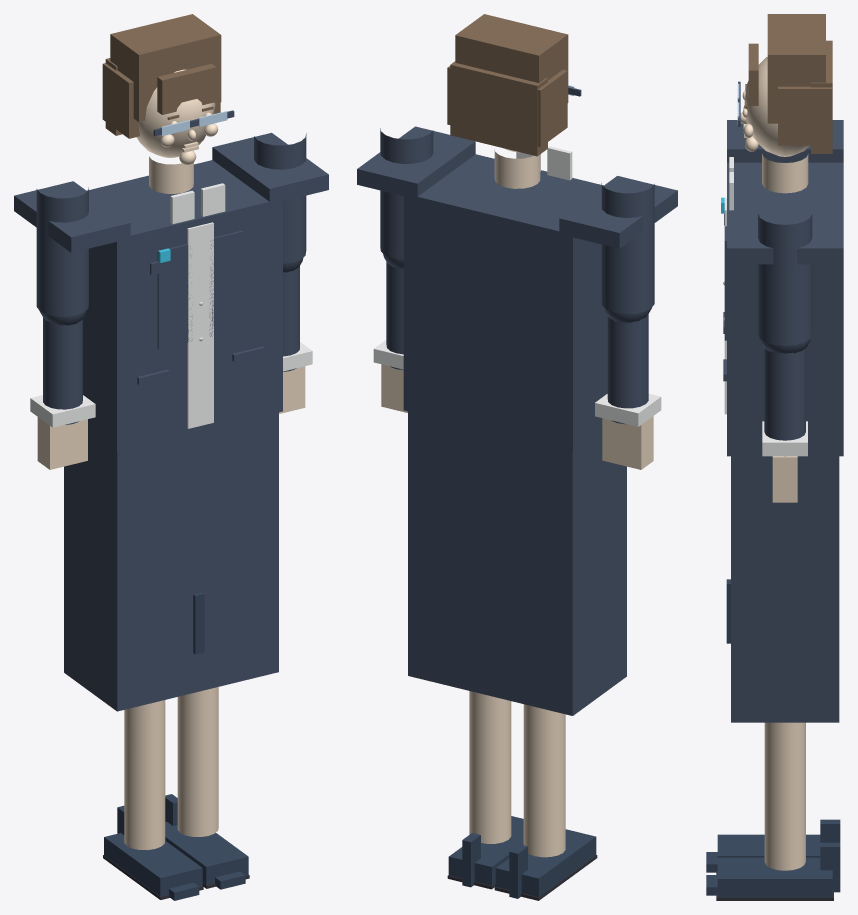
The model's file is woman.gltf.
The picture shows the model from 3 angles, left to right: view 1: azimuth 30°, elevation 25°; view 2: azimuth 150°, elevation 25°; view 3: azimuth 270°, elevation 25°; orthographic projection. The views are drawn at different scales.
Visible parts, largest first — view 1: skirt_body, jacket_body, hair_top, shin_L, shin_R, blouse_front, upper_arm_L, jacket_shoulder_R, jacket_shoulder_L, lower_arm_L, foot_L, jacket_lapel_R (+15 smaller); view 2: skirt_body, jacket_body, hair_back, shin_L, shin_R, hair_top, upper_arm_L, jacket_shoulder_R, jacket_shoulder_L, lower_arm_L, foot_L, upper_arm_R (+10 smaller); view 3: skirt_body, jacket_body, shin_R, upper_arm_R, hair_top, foot_R, jacket_shoulder_R, lower_arm_R, hair_side_R, jacket_shoulder_L, head, foot_L (+11 smaller).
Boxes of the visible parts, x1,y1,x2,y2 form: skirt_body: (64, 412, 278, 711); jacket_body: (83, 160, 282, 451); hair_top: (110, 14, 221, 121); shin_L: (124, 700, 165, 849); shin_R: (177, 687, 218, 836); blouse_front: (187, 222, 213, 428); upper_arm_L: (36, 187, 88, 316); jacket_shoulder_R: (212, 132, 328, 204); jacket_shoulder_L: (14, 181, 130, 252); lower_arm_L: (43, 317, 82, 424); foot_L: (104, 833, 202, 896); jacket_lapel_R: (209, 230, 243, 336); skirt_body: (408, 411, 626, 715); jacket_body: (403, 154, 607, 451); hair_back: (450, 61, 547, 156); shin_L: (523, 704, 565, 857); shin_R: (469, 691, 511, 843); hair_top: (455, 14, 568, 102); upper_arm_L: (601, 183, 654, 313); jacket_shoulder_R: (357, 126, 475, 198); jacket_shoulder_L: (559, 176, 677, 248); lower_arm_L: (607, 314, 648, 424); foot_L: (495, 829, 596, 897); upper_arm_R: (380, 128, 433, 259); skirt_body: (731, 456, 839, 722); jacket_body: (727, 162, 843, 456); shin_R: (764, 722, 805, 870); upper_arm_R: (758, 214, 812, 345); hair_top: (767, 14, 825, 123); foot_R: (717, 857, 832, 897); jacket_shoulder_R: (727, 218, 843, 264); lower_arm_R: (764, 348, 805, 456); hair_side_R: (778, 86, 832, 145); jacket_shoulder_L: (727, 120, 843, 162); head: (744, 57, 809, 156); foot_L: (717, 834, 820, 857).
Size of the model in its own units: 0.6321 by 1.9 by 0.2797.
